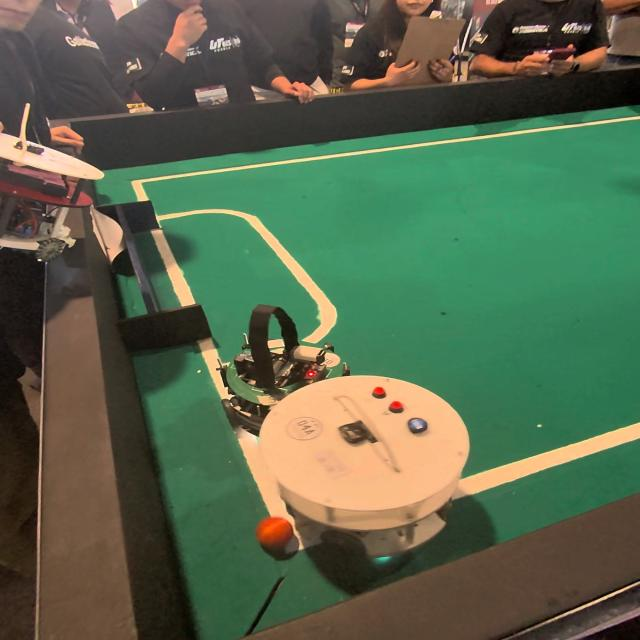Robot: (249, 366, 500, 556), (215, 299, 354, 438)
pelota: (254, 509, 296, 560)
